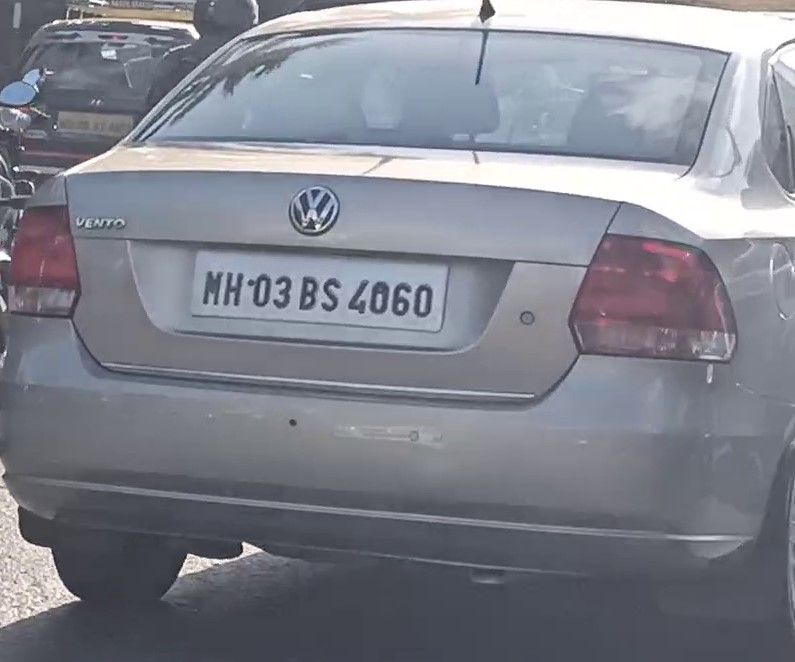MH03BS4060: (191, 249, 449, 331)
